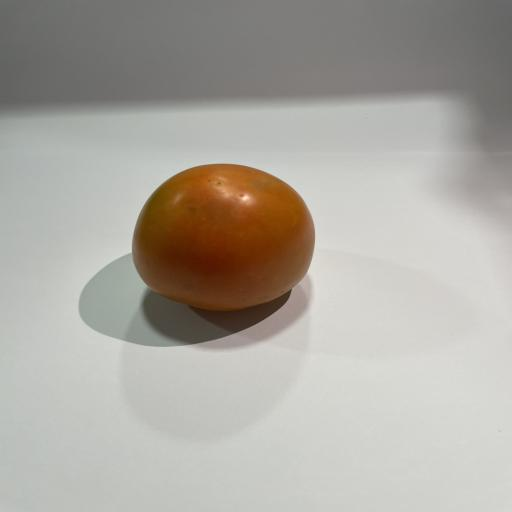ripe: (132, 164, 315, 311)
